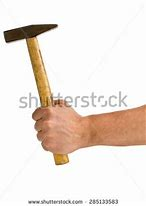hammer: (2, 21, 75, 167)
